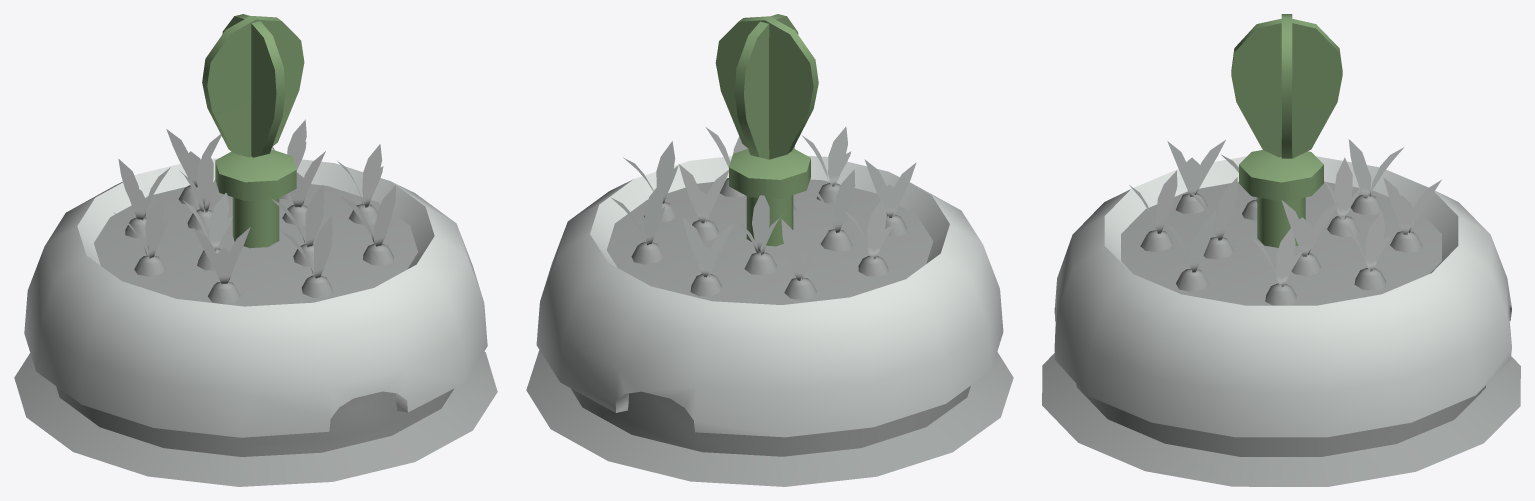
The picture shows the model from 3 angles, left to right: view 1: azimuth 30°, elevation 25°; view 2: azimuth 150°, elevation 25°; view 3: azimuth 270°, elevation 25°; orthographic projection.
Parts seen in each view (by area): view 1: G:\FFXIV-MapTools\exports\u5f1\bg\ex4\04_uvs_u5\fld\u5f1\bgp (×6); view 2: G:\FFXIV-MapTools\exports\u5f1\bg\ex4\04_uvs_u5\fld\u5f1\bgp (×6); view 3: G:\FFXIV-MapTools\exports\u5f1\bg\ex4\04_uvs_u5\fld\u5f1\bgp (×6).
Part boxes in pixels (x1,y1,x2,y2): G:\FFXIV-MapTools\exports\u5f1\bg\ex4\04_uvs_u5\fld\u5f1\bgp (×6): (14,14,497,486); G:\FFXIV-MapTools\exports\u5f1\bg\ex4\04_uvs_u5\fld\u5f1\bgp (×6): (526,14,1013,486); G:\FFXIV-MapTools\exports\u5f1\bg\ex4\04_uvs_u5\fld\u5f1\bgp (×6): (1042,14,1520,486).
Bounding box in the file's own units: 2.95 × 2.5 × 2.95.
